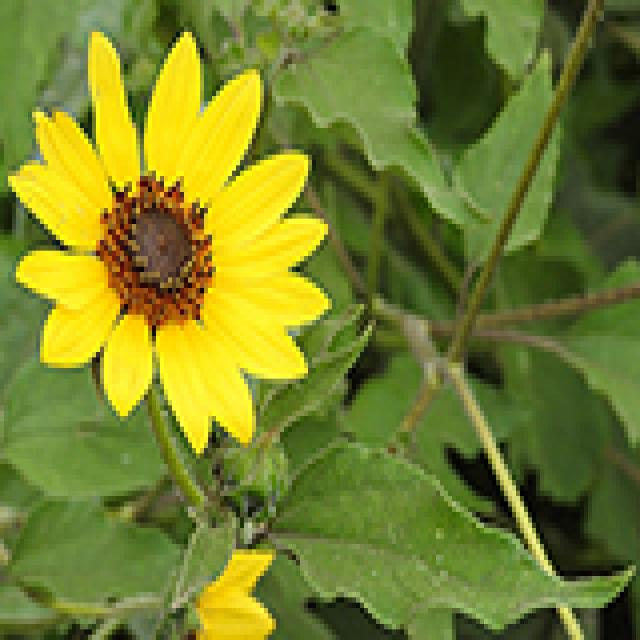sunflower: (0, 14, 339, 466), (158, 519, 284, 640)
